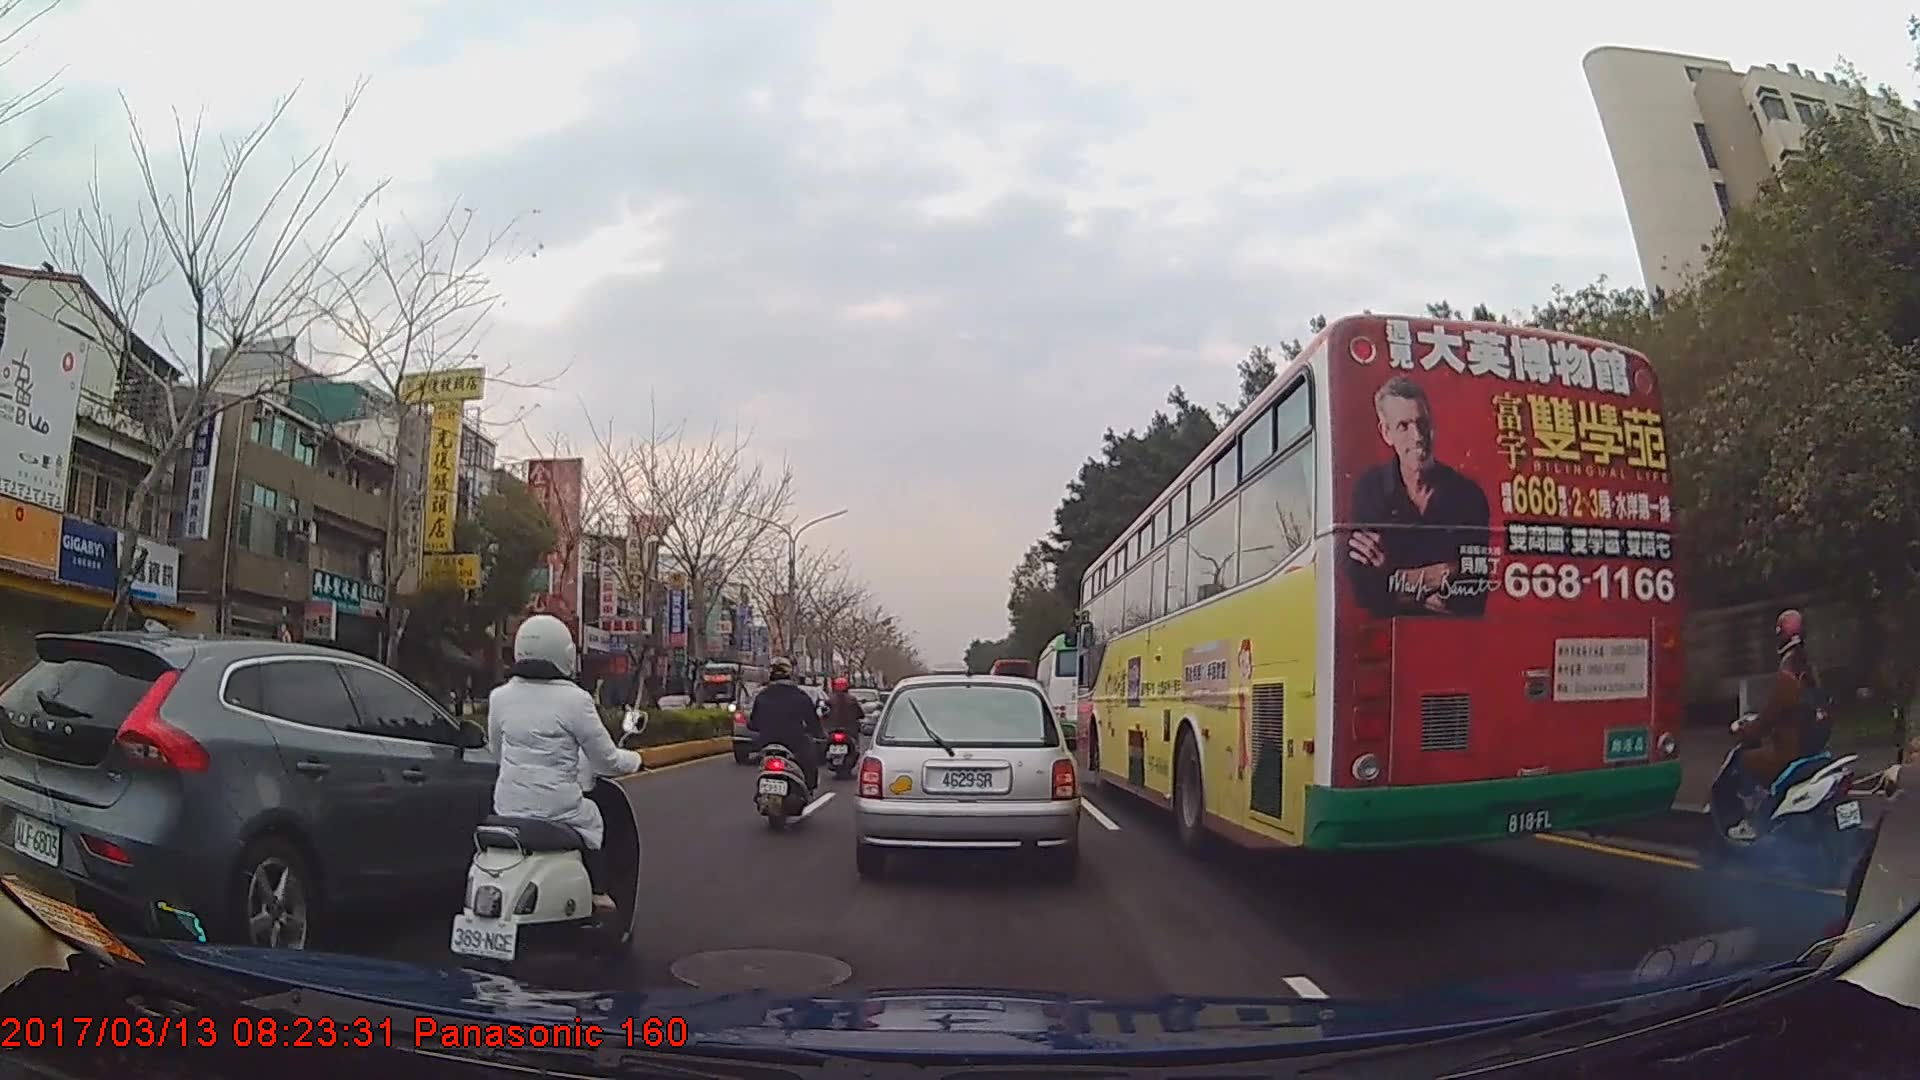rider: (455, 611, 651, 973), (1694, 606, 1867, 877), (1838, 543, 1920, 1023), (748, 661, 820, 833), (822, 678, 865, 775)
vehicle: (1074, 314, 1683, 859), (0, 631, 565, 968), (856, 673, 1077, 876), (1033, 629, 1123, 748), (729, 682, 831, 762), (695, 662, 761, 728)
